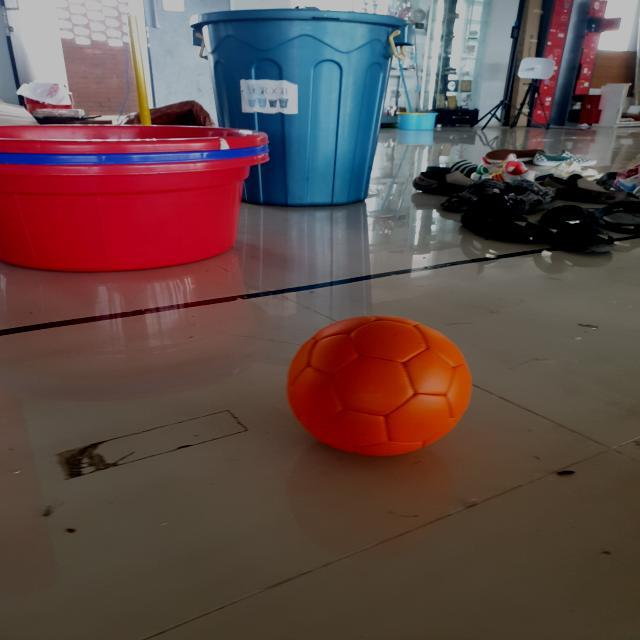bola: (280, 309, 480, 464)
